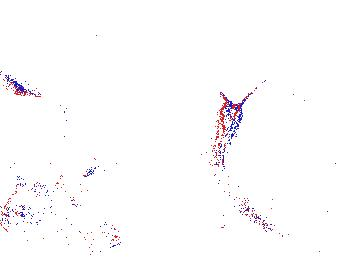X-ray fish: (1, 181, 76, 235), (42, 218, 130, 249)
siberian prawn: (62, 136, 210, 179), (105, 185, 208, 236)
